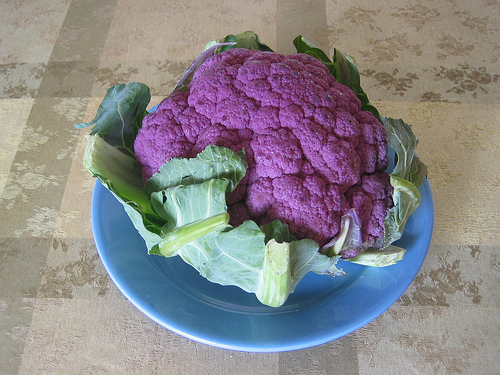cauliflower: (135, 45, 390, 253)
